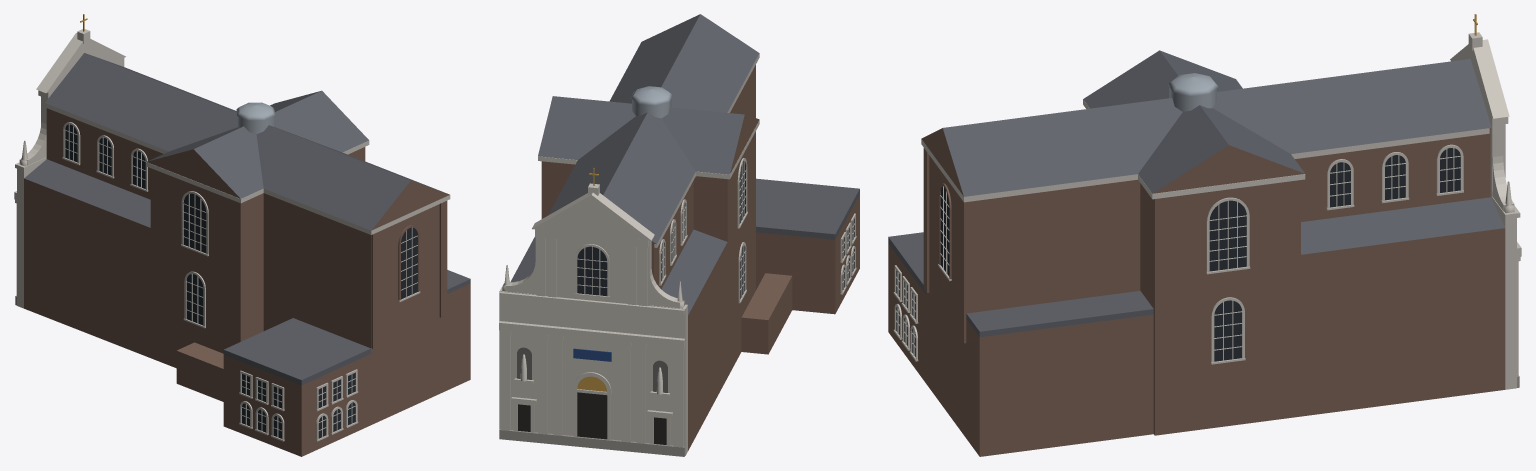
The model's file is de-duif.glb.
The picture shows the model from 3 angles, left to right: view 1: azimuth 30°, elevation 25°; view 2: azimuth 150°, elevation 25°; view 3: azimuth 270°, elevation 25°; orthographic projection. The views are drawn at different scales.
Parts seen in each view (by area): view 1: de-duif; view 2: de-duif; view 3: de-duif.
Part boxes in pixels (x1=…): de-duif: x1=14, y1=14, x2=470, y2=456; de-duif: x1=499, y1=14, x2=859, y2=456; de-duif: x1=888, y1=14, x2=1521, y2=456.
Bounding box in the file's own units: 31.13 × 29.7 × 51.8.
